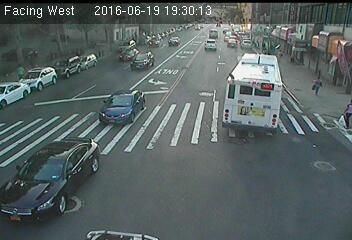neg: (169, 46, 189, 74), (226, 100, 244, 125), (234, 49, 250, 71), (261, 76, 277, 97), (70, 44, 85, 64), (138, 58, 150, 74)
pos: (337, 99, 351, 132), (313, 74, 328, 95), (297, 48, 312, 67), (11, 62, 25, 82)
